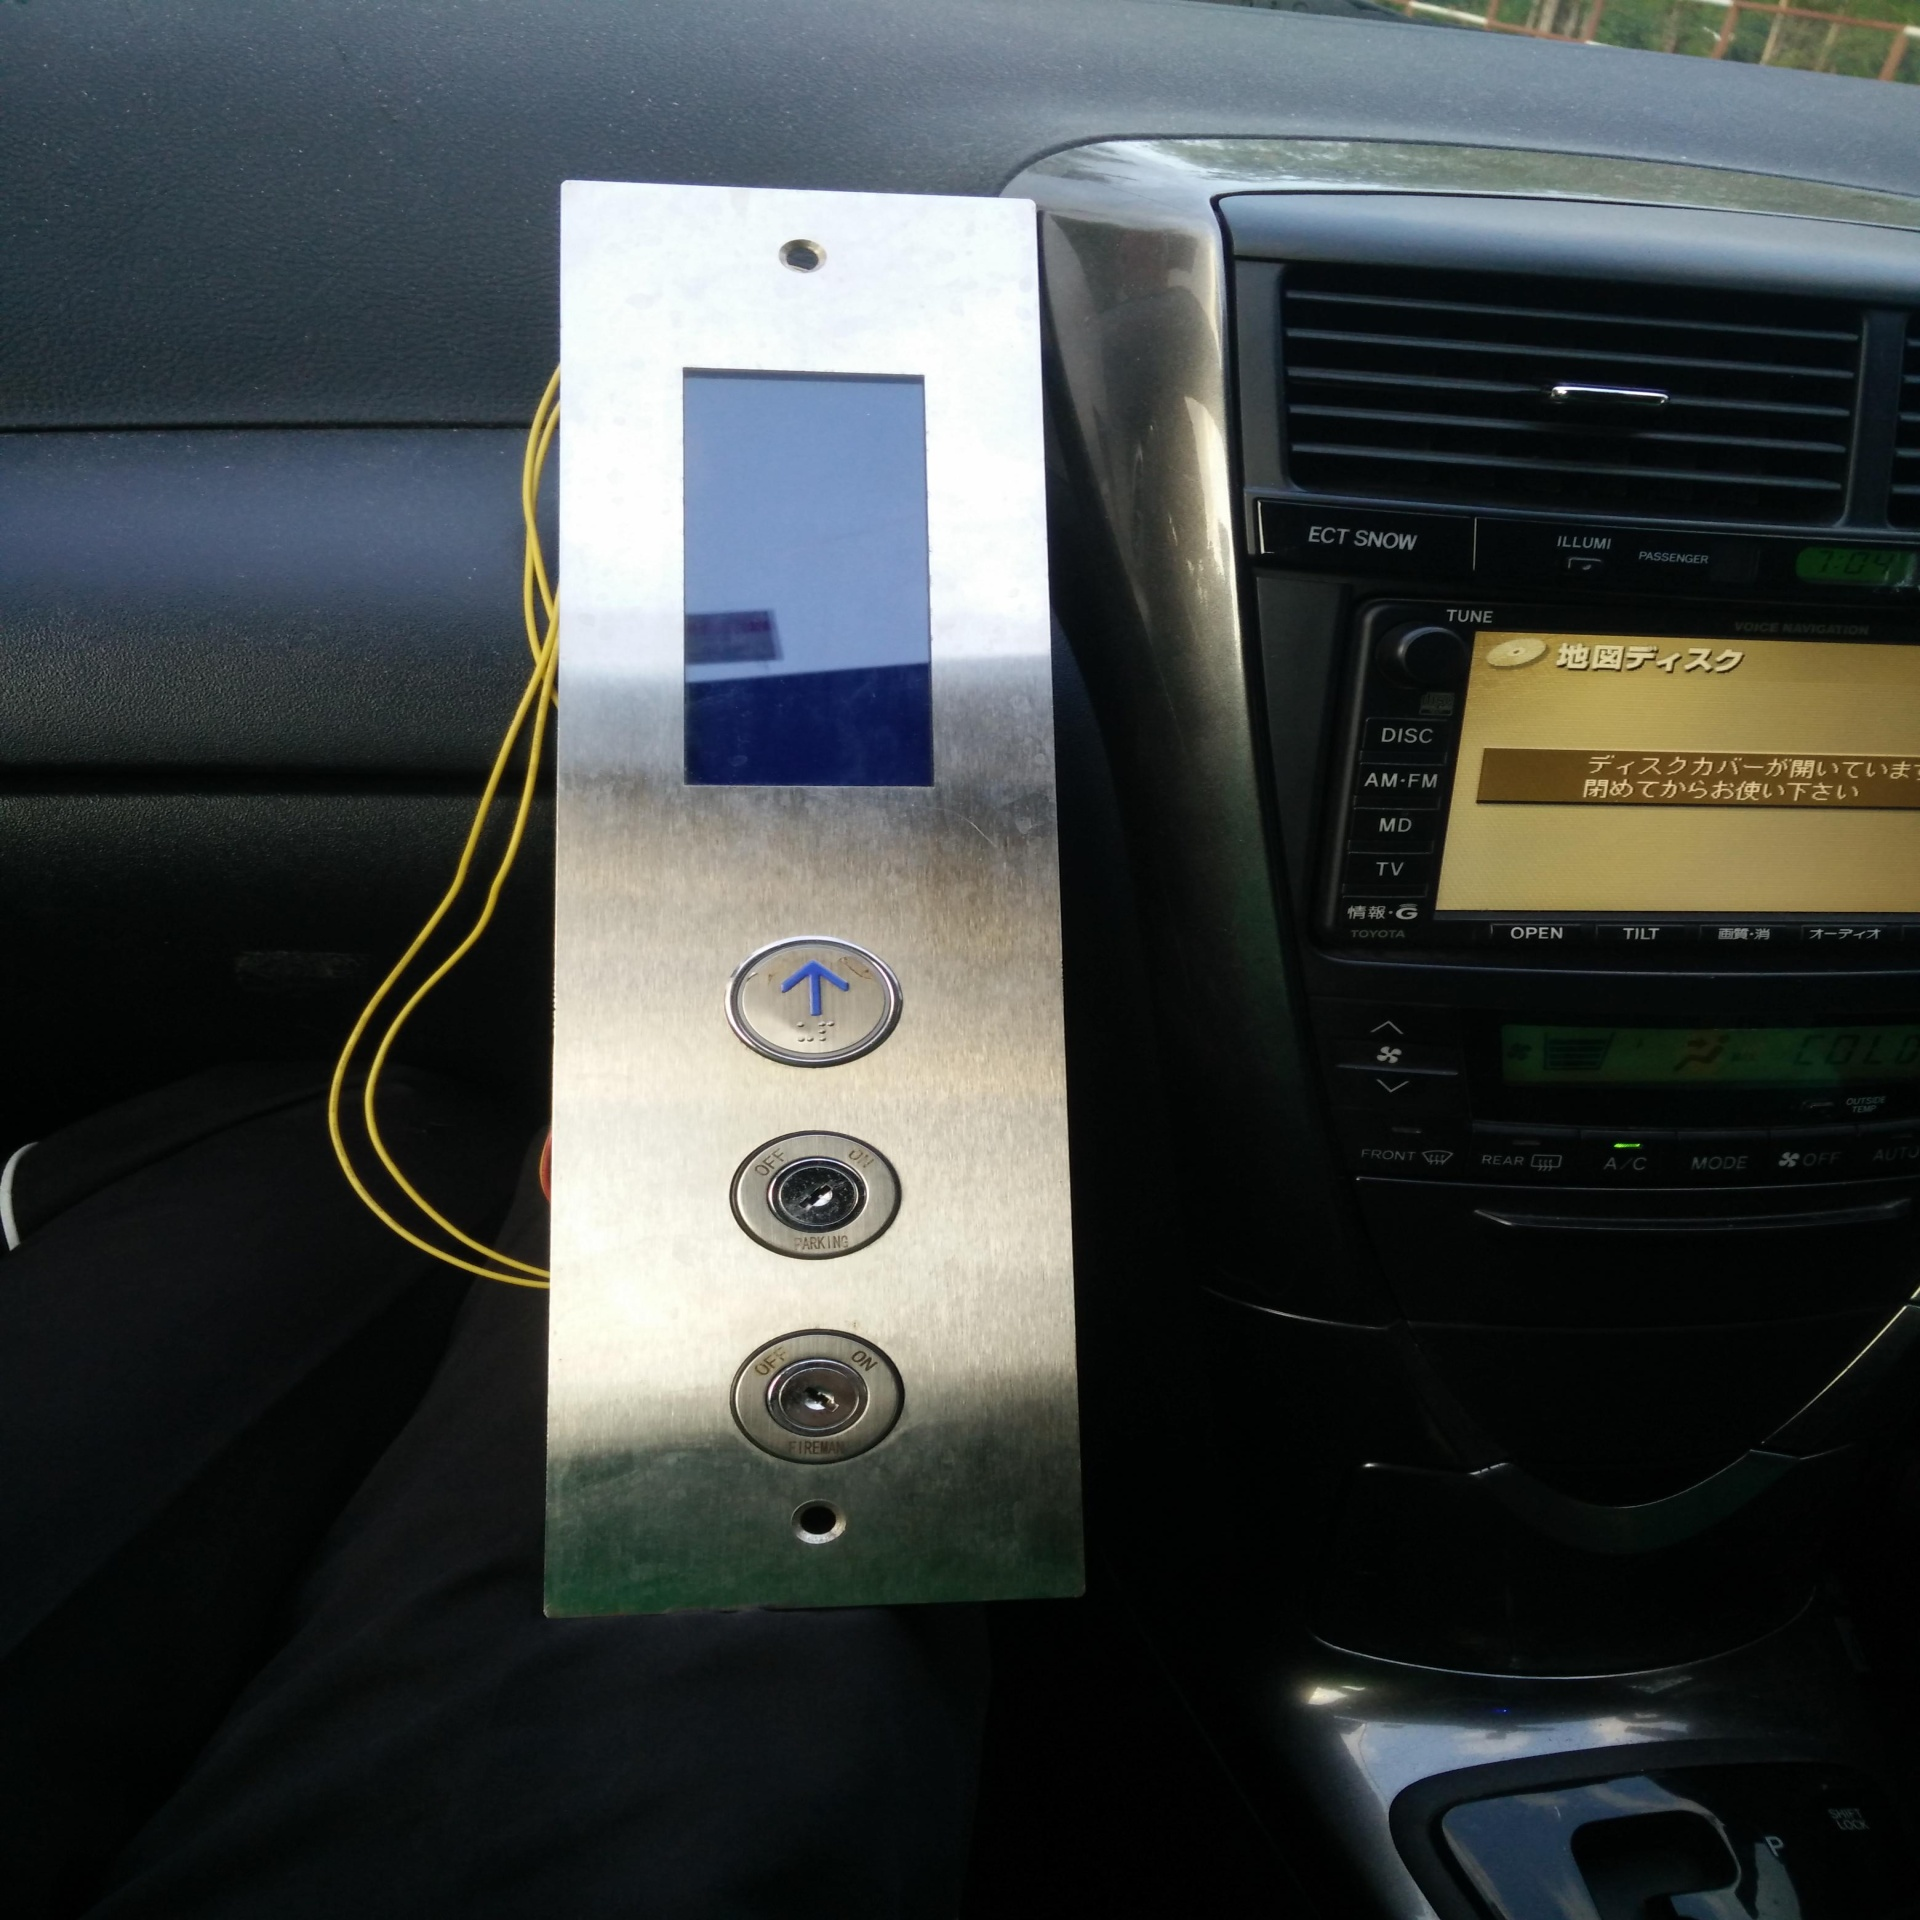keyhole: (724, 1322, 911, 1473), (726, 1125, 911, 1262)
led: (672, 357, 941, 802)
up: (724, 930, 902, 1078)
